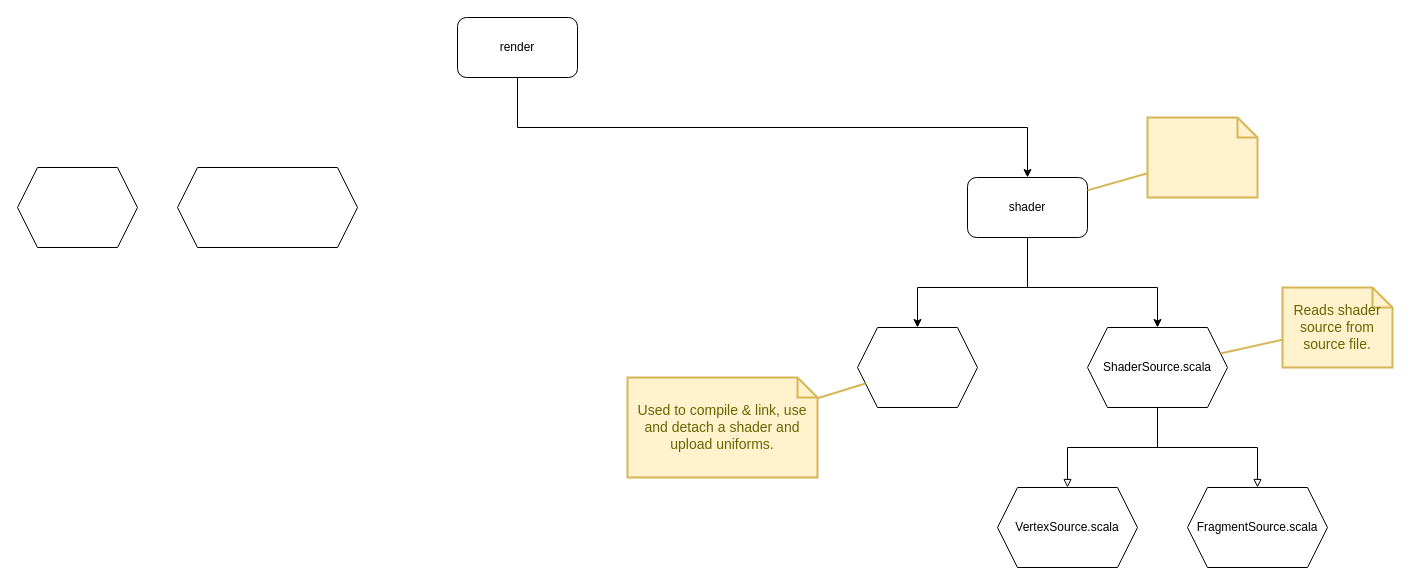
The diagram is 1411 pixels wide and 585 high, and some of its shapes have lost their labels. The shapes that lost their labels are listed below. From the top down, each one's centre as x and y in pixels, then its label:
At point (1202, 157): "Contains everything to do with shaders.".
At point (77, 207): "Renderer.scala".
At point (267, 207): "Renderable.scala".
At point (917, 367): "Shader.scala".
